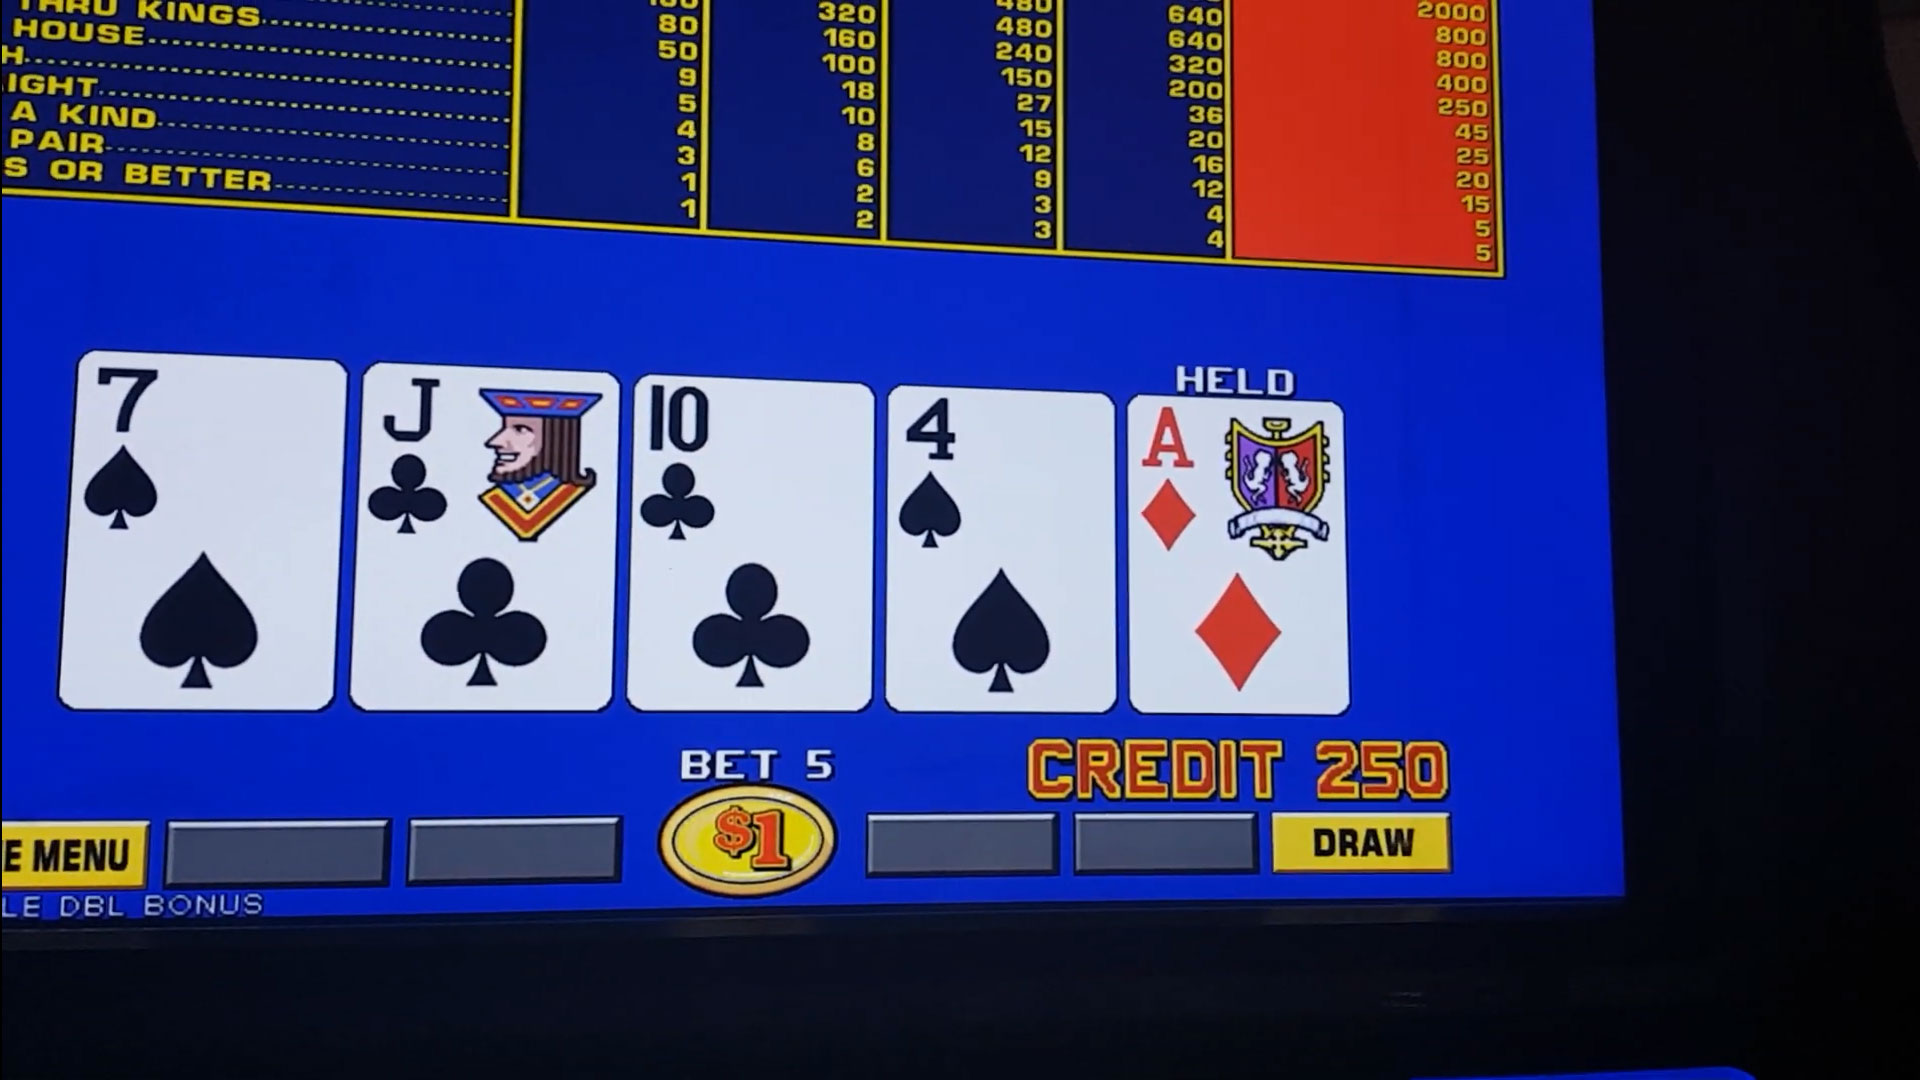CJ: (367, 375, 611, 558)
CT: (640, 386, 865, 560)
DA: (1133, 401, 1340, 562)
S4: (891, 393, 1108, 558)
S7: (86, 365, 334, 545)
